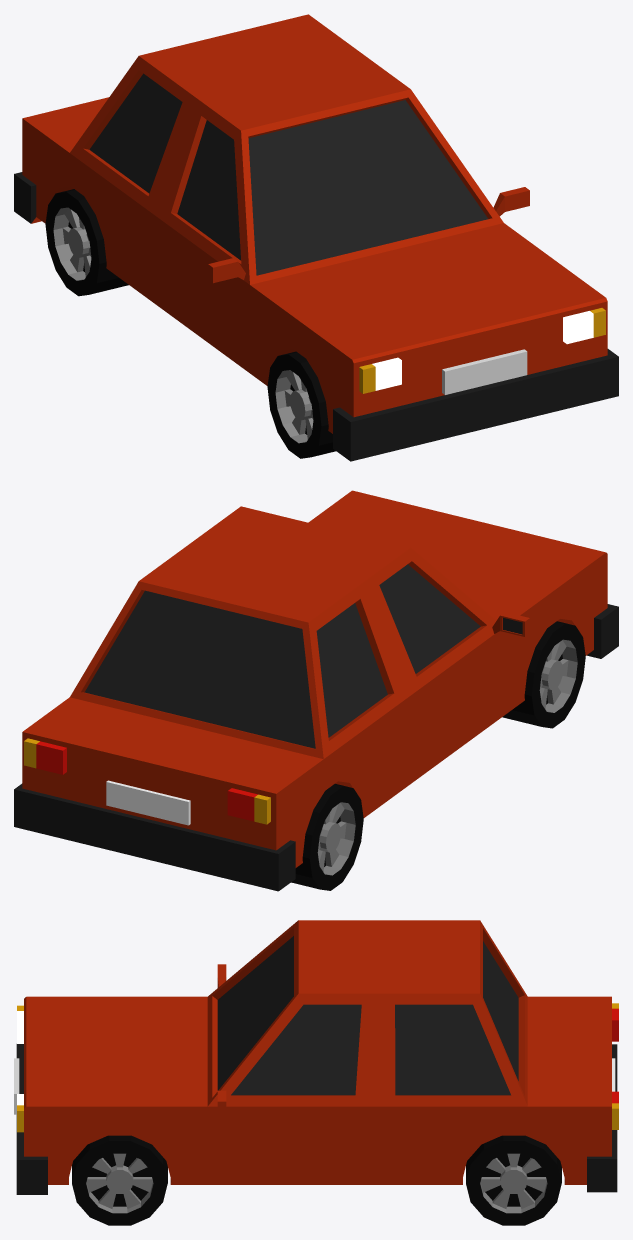
File: redCar.glb
3 views of the same model, one above another, from view 1: azimuth 30°, elevation 25°; view 2: azimuth 150°, elevation 25°; view 3: azimuth 270°, elevation 25° (orthographic). The views are drawn at different scales.
Visible parts, largest first — view 1: car_body_5, wheel_front.001_7, wheel_front_6, lights_front_1, number_plate_3, mirrors_2; view 2: car_body_5, wheel_front_6, wheel_front.001_7, lights_back_0, number_plate.001_4, mirrors_2; view 3: car_body_5, wheel_front_6, wheel_front.001_7, lights_back_0, lights_front_1, mirrors_2.
Part boxes in pixels (x1,y1,x2,y2): car_body_5: [14, 14, 618, 461]; wheel_front.001_7: [45, 189, 128, 296]; wheel_front_6: [267, 351, 335, 458]; lights_front_1: [359, 308, 605, 393]; number_plate_3: [442, 349, 527, 394]; mirrors_2: [208, 187, 529, 283]; car_body_5: [14, 490, 618, 891]; wheel_front_6: [502, 621, 585, 728]; wheel_front.001_7: [291, 783, 363, 890]; lights_back_0: [24, 738, 270, 824]; number_plate.001_4: [106, 780, 190, 825]; mirrors_2: [492, 612, 529, 636]; car_body_5: [16, 920, 617, 1194]; wheel_front_6: [72, 1135, 167, 1225]; wheel_front.001_7: [466, 1135, 561, 1225]; lights_back_0: [612, 1003, 618, 1129]; lights_front_1: [17, 1005, 23, 1132]; mirrors_2: [217, 964, 226, 1115].
Bounding box in the file's own units: 2.49 × 1.79 × 4.65.
